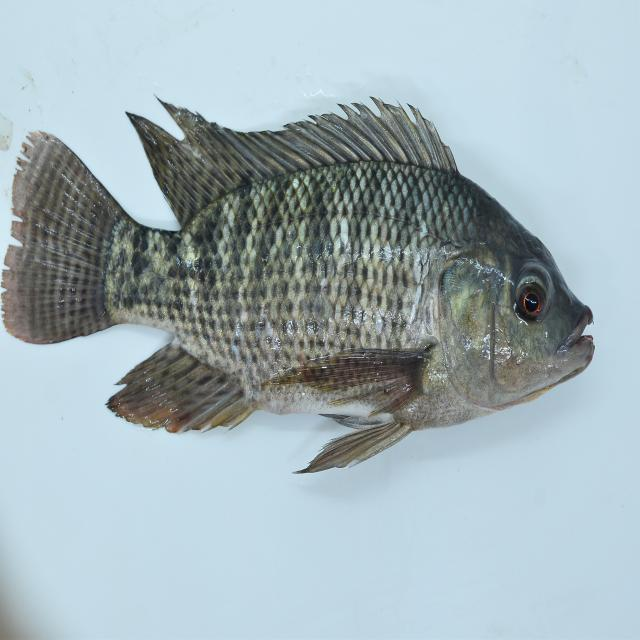Columnaris Disease: (0, 93, 621, 484)
